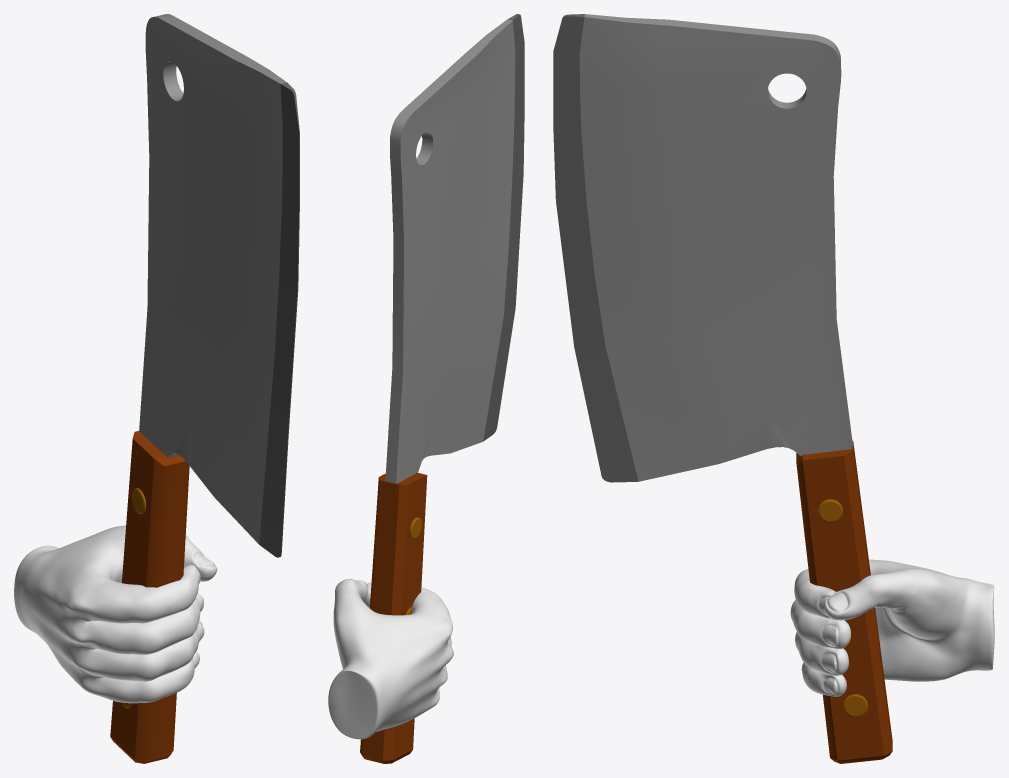
The model's file is правая с тесаком.fbx.
3 views of the same model, side by side, from view 1: azimuth 30°, elevation 25°; view 2: azimuth 150°, elevation 25°; view 3: azimuth 270°, elevation 25° (orthographic). The views are drawn at different scales.
Visible parts, largest first — view 1: правая рука.002; view 2: правая рука.002; view 3: правая рука.002.
Part boxes in pixels (box(x1,y1,x2,y2)): правая рука.002: box(14, 14, 299, 763); правая рука.002: box(328, 14, 524, 763); правая рука.002: box(553, 14, 994, 763).
Size of the model in its own units: 8.29 by 44.82 by 24.23.
